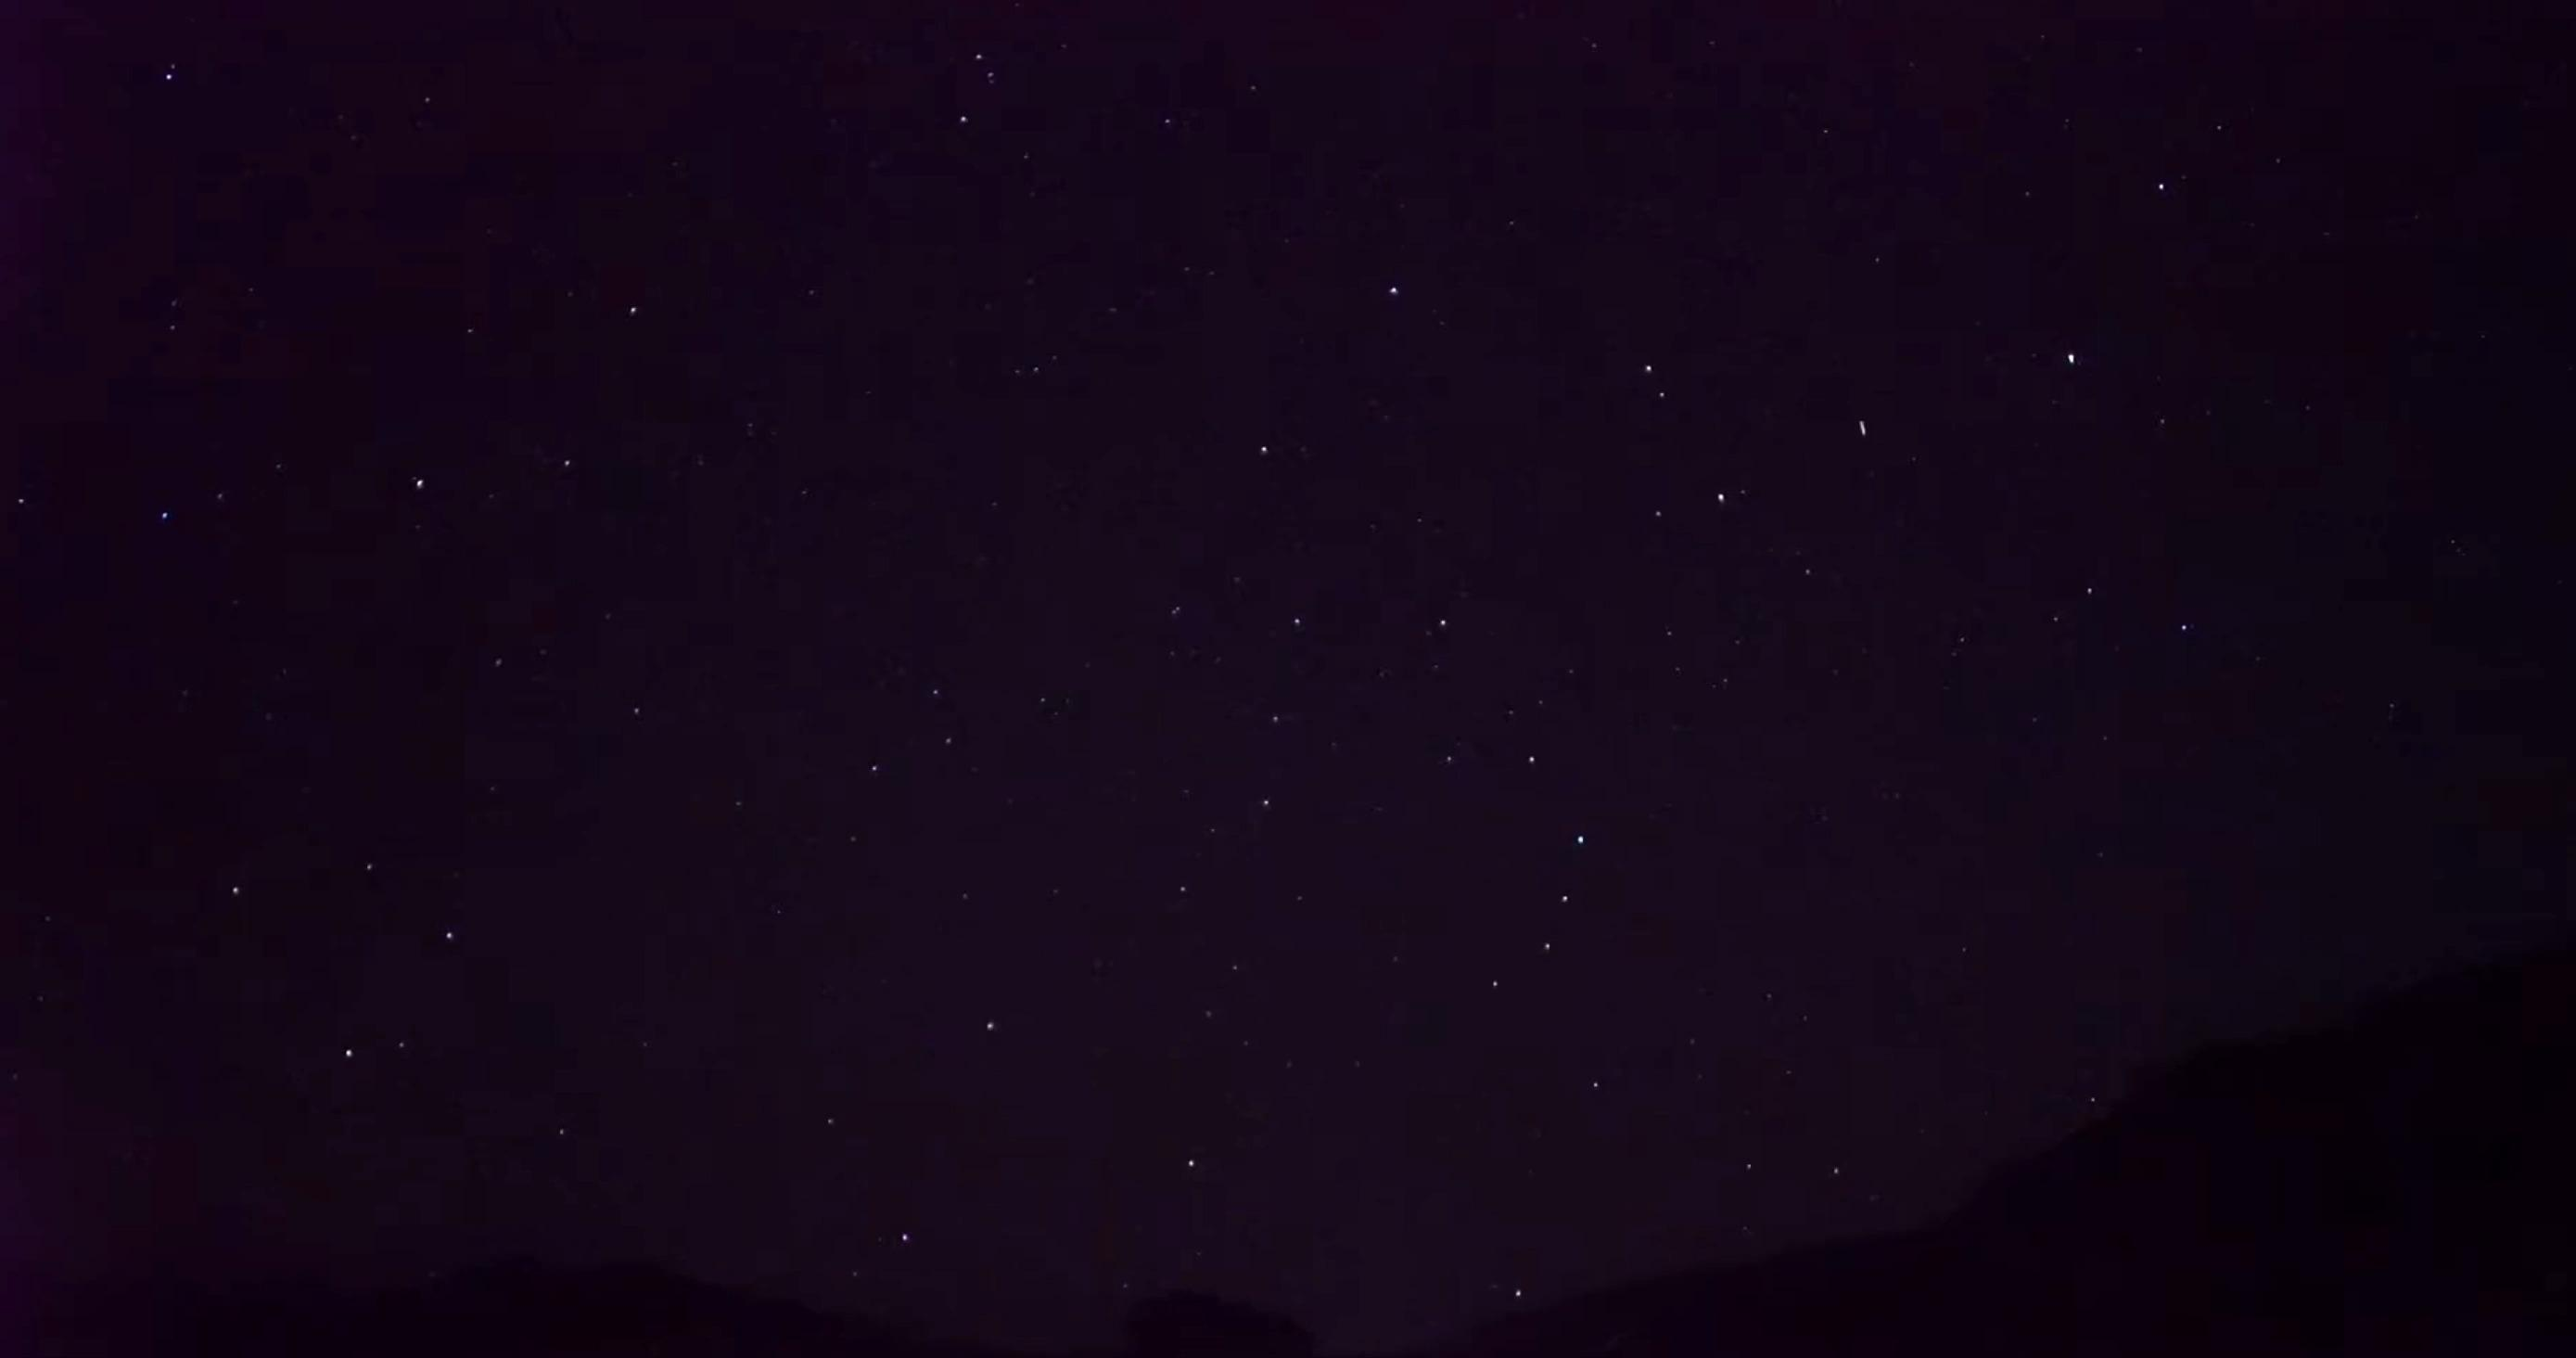meteorite: (1845, 412, 1893, 452)
